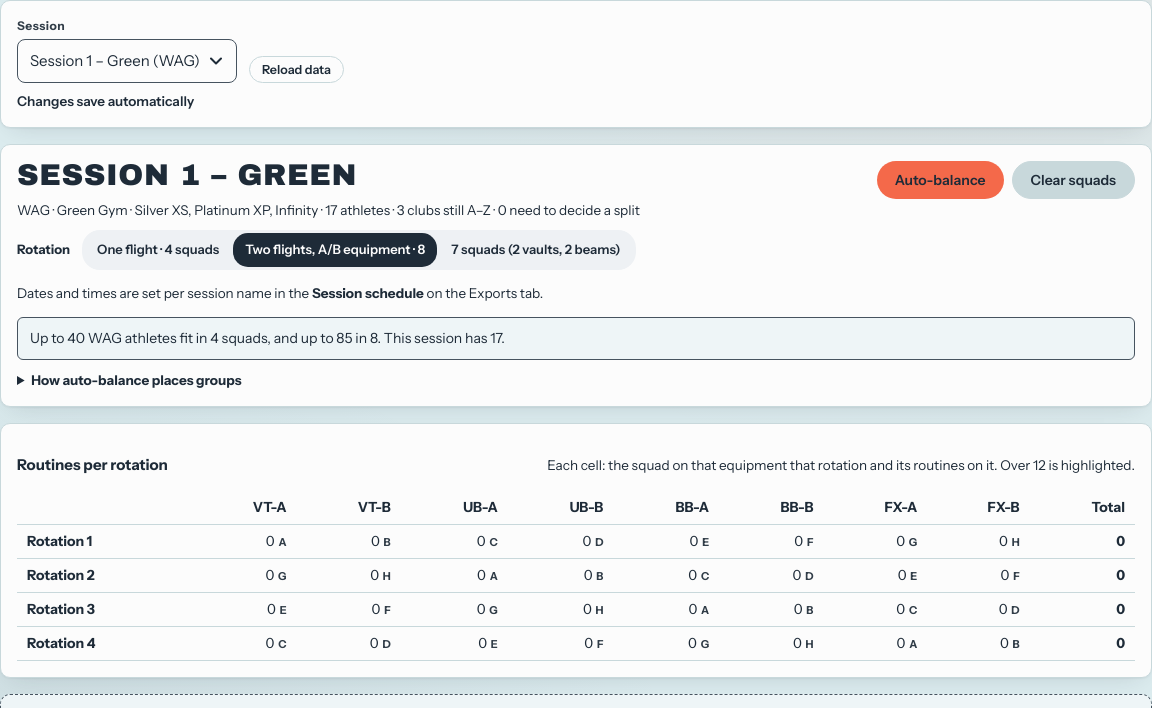
it: Squads screen › auto-balance places everything, keeps Infinity apart, and autosaves a plan with no nested arrays
The image size is (1152, 708).
Check: the heading "Session 1 – Green" is shown, box [17,159,357,191]
Click the button "One flight · 4 squads". click: click(158, 250)
box: [85,233,231,266]
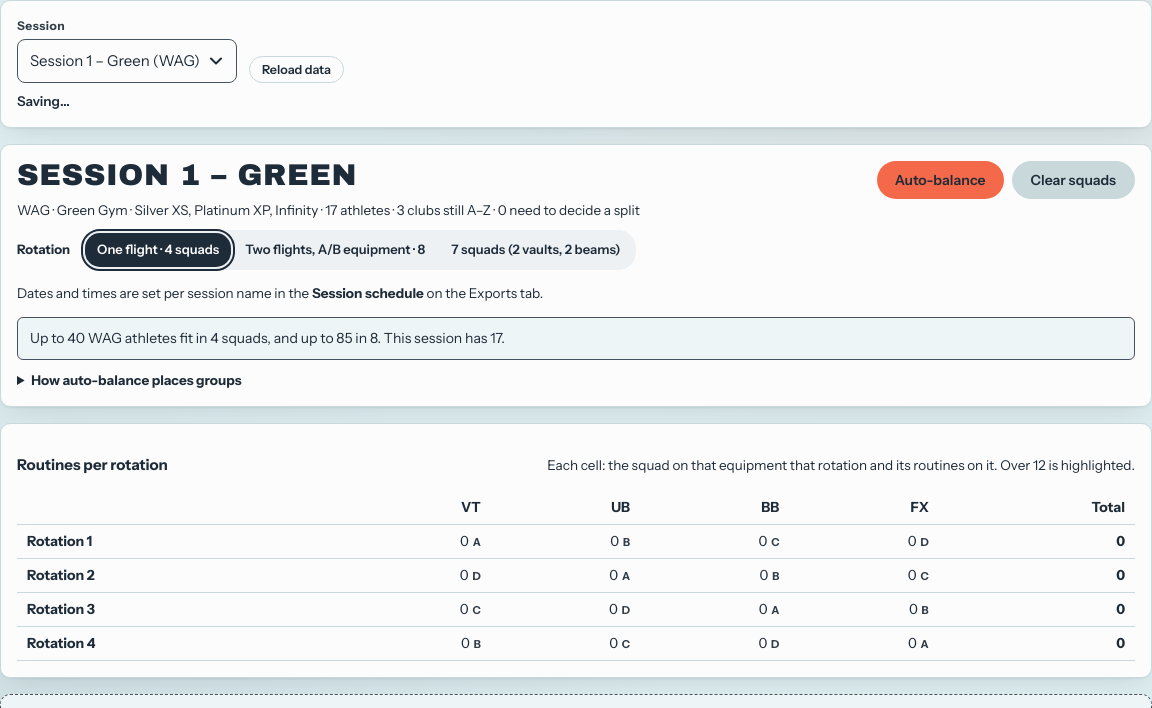
Click the button "Auto-balance". click: click(940, 180)
box: [877,161,1004,199]
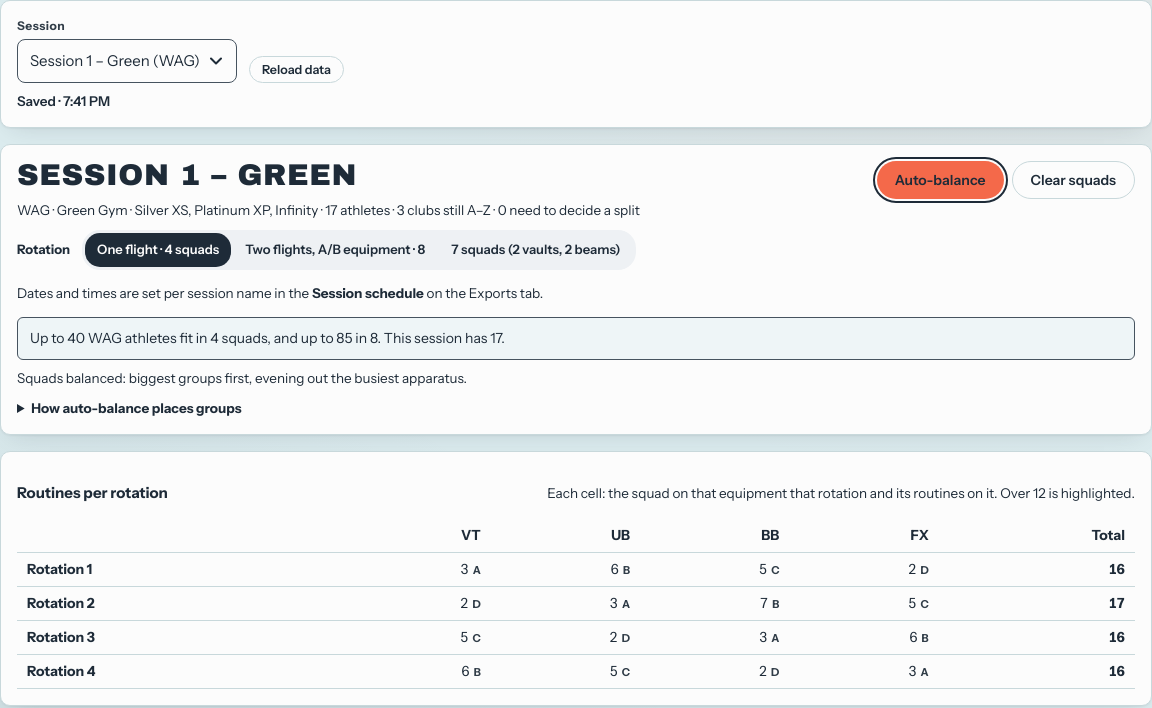
Check: the message with test id "squads-save" shows "Saved ·", box [17,93,110,109]
